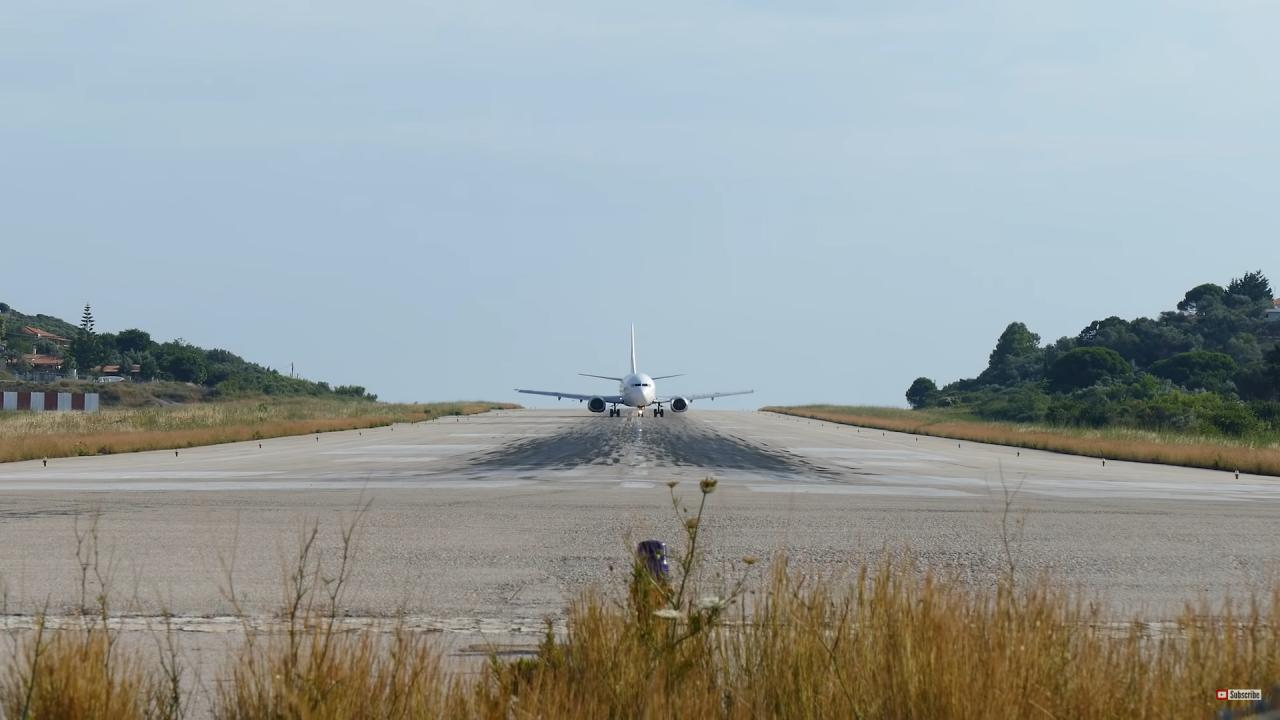Airplane: (506, 315, 767, 426)
